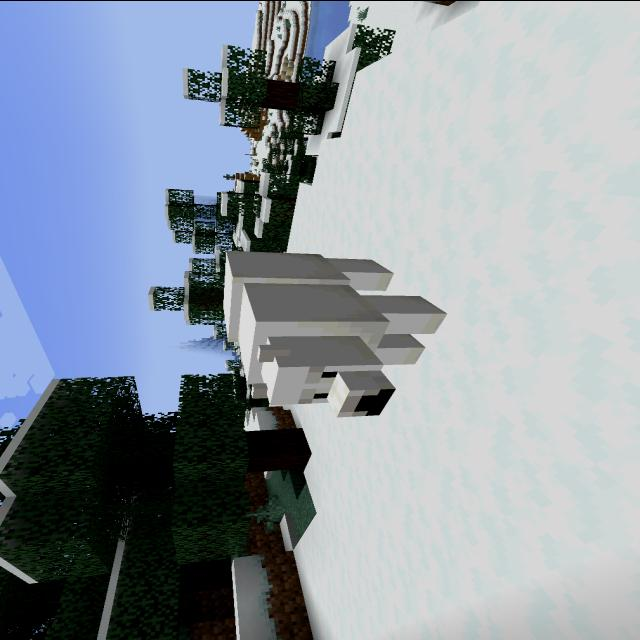Polar Bear: (210, 240, 468, 424)
